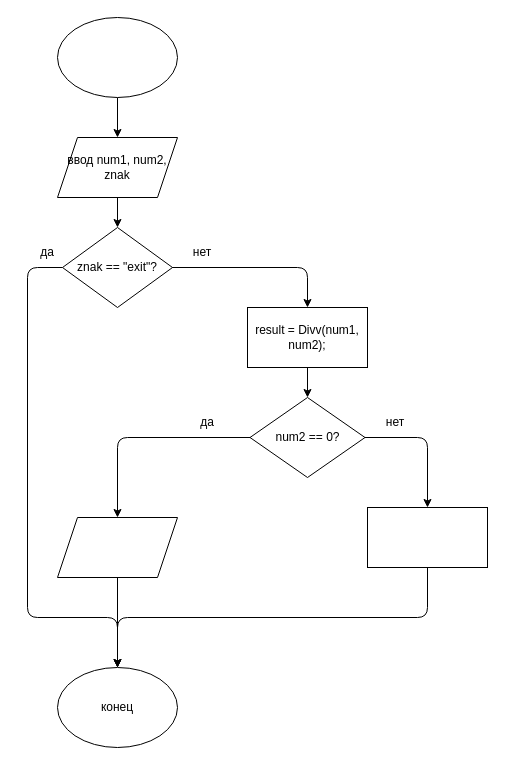
The diagram is 505 pixels wide and 765 high, and some of its shapes have lost their labels. The box of each missing label's shape, as (x1, y1, x2, y2) in pixels:
return a / b;: (366, 506, 488, 568)
вывод ошибки: (56, 516, 178, 578)
начало: (56, 16, 178, 98)
